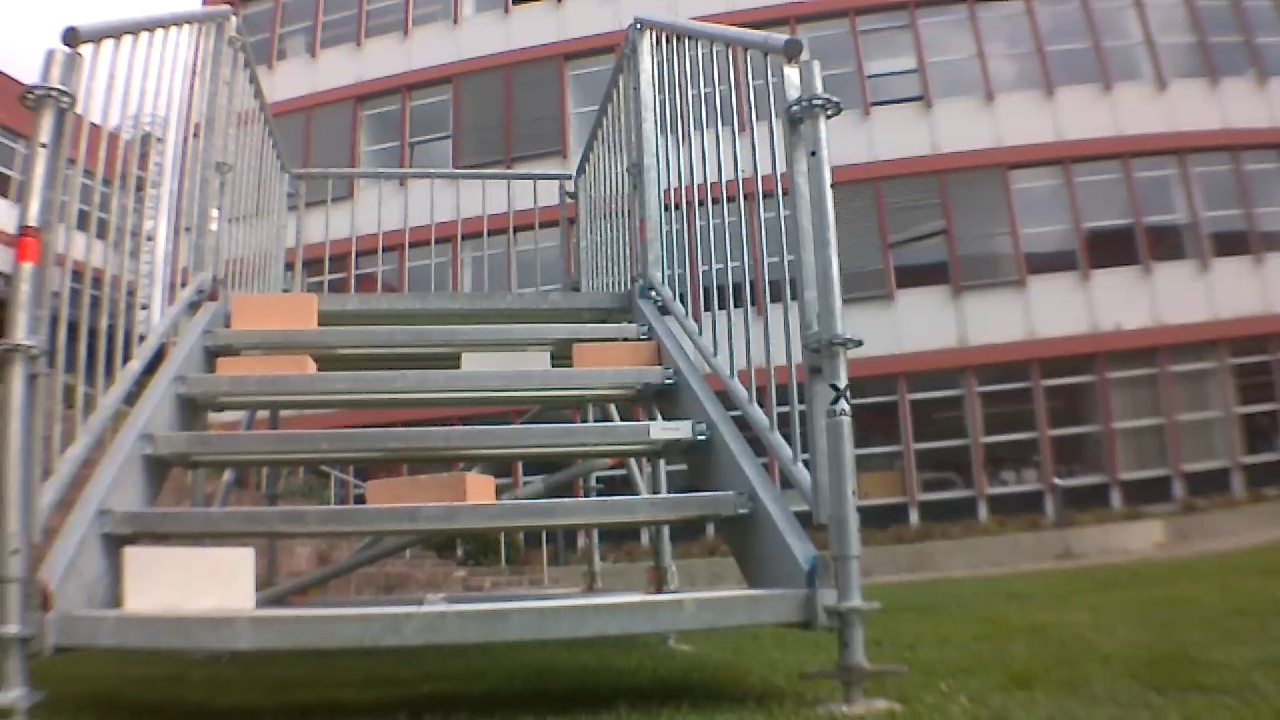brick: (124, 545, 255, 612), (366, 473, 495, 504), (231, 294, 317, 327), (571, 341, 657, 367), (217, 354, 316, 375), (462, 350, 549, 371)
edge: (59, 589, 810, 646), (100, 492, 752, 531), (141, 422, 709, 452), (176, 366, 678, 393), (205, 323, 652, 342), (225, 291, 628, 309)
stairs: (3, 5, 864, 711)
steps: (48, 285, 820, 651)
